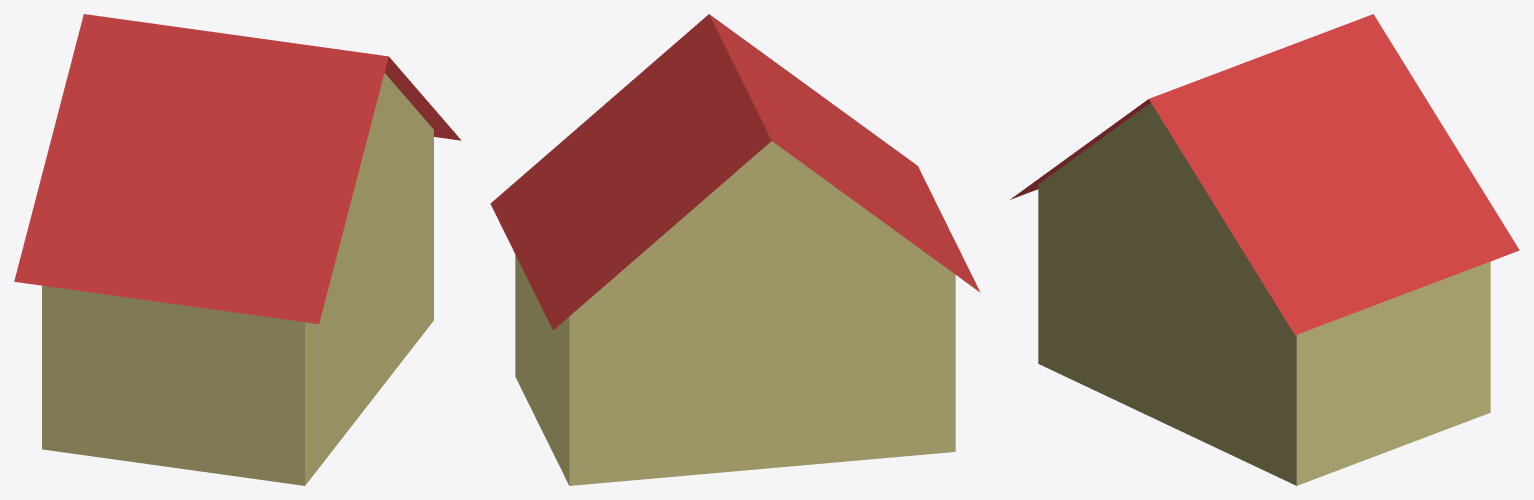
3 renders of one model, left to right at view 1: azimuth 30°, elevation 25°; view 2: azimuth 150°, elevation 25°; view 3: azimuth 270°, elevation 25°, orthographic. The views are drawn at different scales.
Parts seen in each view (by area): view 1: group_3, group_5, group_4; view 2: group_5, group_3, group_4; view 3: group_5, group_3, group_4.
Boxes of the visible parts, x1,y1,x2,y2 form: group_3: (14,14,455,323); group_5: (42,73,433,485); group_4: (117,53,461,315); group_5: (515,141,955,485); group_3: (490,14,980,325); group_4: (491,14,771,330); group_5: (1038,103,1490,485); group_3: (1132,14,1493,335); group_4: (1010,14,1519,334).
Size of the model in its own units: 18.93 by 18.57 by 13.25.
